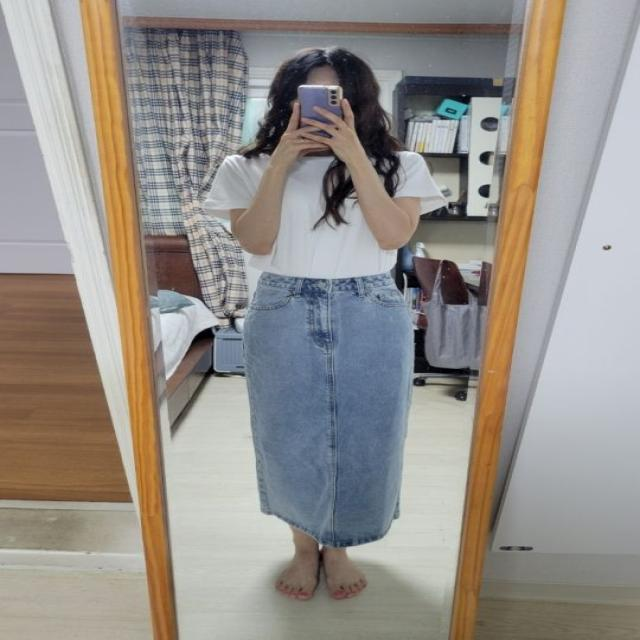shortsleeve: (204, 147, 450, 281)
skirt: (243, 269, 416, 546)
